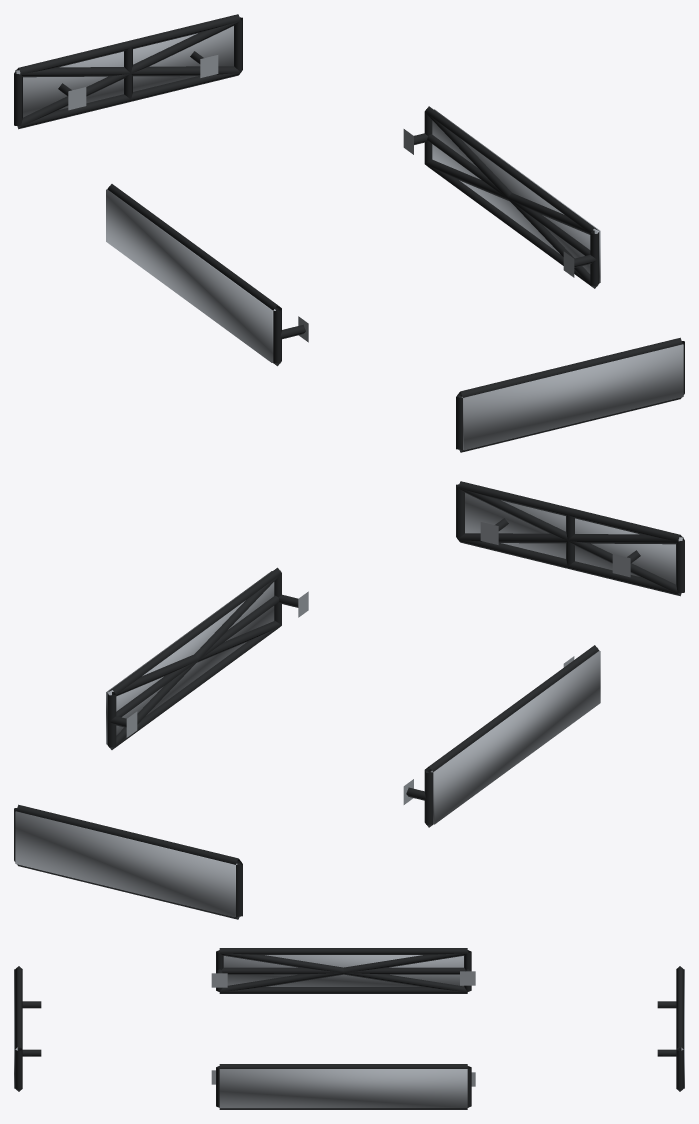
Rendered from norrvik_vigia_protecao.glb.
3 renders of one model, top to bottom at view 1: azimuth 30°, elevation 25°; view 2: azimuth 150°, elevation 25°; view 3: azimuth 270°, elevation 25°, orthographic. The views are drawn at different scales.
Parts seen in each view (by area): view 1: Protection_front_Level3_Details, Protection_left_Level3_Details, Protection_rear_Level1_Details, Protection_rear_Level3_Details, Protection_right_Level1_Details, Protection_right_Level2_Details, Protection_rear_Level2_Details, Protection_right_Level3_Details, Protection_front_Level1_Details, Protection_left_Level1_Details; view 2: Protection_rear_Level3_Details, Protection_left_Level3_Details, Protection_front_Level1_Details, Protection_front_Level3_Details, Protection_right_Level1_Details, Protection_right_Level2_Details, Protection_front_Level2_Details, Protection_right_Level3_Details, Protection_rear_Level1_Details, Protection_left_Level1_Details; view 3: Protection_right_Level3_Details, Protection_left_Level2_Details, Protection_left_Level1_Details, Protection_left_Level3_Details, Protection_right_Level1_Details, Protection_rear_Level1_Details, Protection_front_Level1_Details.
Boxes of the visible parts, x1,y1,x2,y2 form: Protection_front_Level3_Details: [461, 344, 683, 450]; Protection_left_Level3_Details: [106, 189, 275, 362]; Protection_rear_Level1_Details: [14, 14, 242, 129]; Protection_rear_Level3_Details: [15, 26, 233, 117]; Protection_right_Level1_Details: [403, 106, 599, 288]; Protection_right_Level2_Details: [425, 112, 598, 288]; Protection_rear_Level2_Details: [16, 21, 240, 128]; Protection_right_Level3_Details: [432, 109, 600, 283]; Protection_front_Level1_Details: [456, 337, 684, 452]; Protection_left_Level1_Details: [107, 184, 308, 366]; Protection_rear_Level3_Details: [15, 811, 237, 917]; Protection_left_Level3_Details: [430, 650, 600, 824]; Protection_front_Level1_Details: [456, 481, 684, 596]; Protection_front_Level3_Details: [465, 493, 683, 584]; Protection_right_Level1_Details: [107, 567, 308, 749]; Protection_right_Level2_Details: [107, 574, 281, 749]; Protection_front_Level2_Details: [458, 488, 682, 595]; Protection_right_Level3_Details: [106, 571, 274, 744]; Protection_rear_Level1_Details: [14, 804, 242, 919]; Protection_left_Level1_Details: [403, 645, 599, 827]; Protection_right_Level3_Details: [219, 1069, 467, 1108]; Protection_left_Level2_Details: [219, 950, 467, 992]; Protection_left_Level1_Details: [211, 948, 475, 993]; Protection_left_Level3_Details: [223, 955, 463, 986]; Protection_right_Level1_Details: [211, 1064, 475, 1109]; Protection_rear_Level1_Details: [657, 966, 683, 1091]; Protection_front_Level1_Details: [15, 966, 41, 1091].
Size of the model in its own units: 1.98 by 0.354 by 4.68.
Materials: 1 (1 with a texture image).
